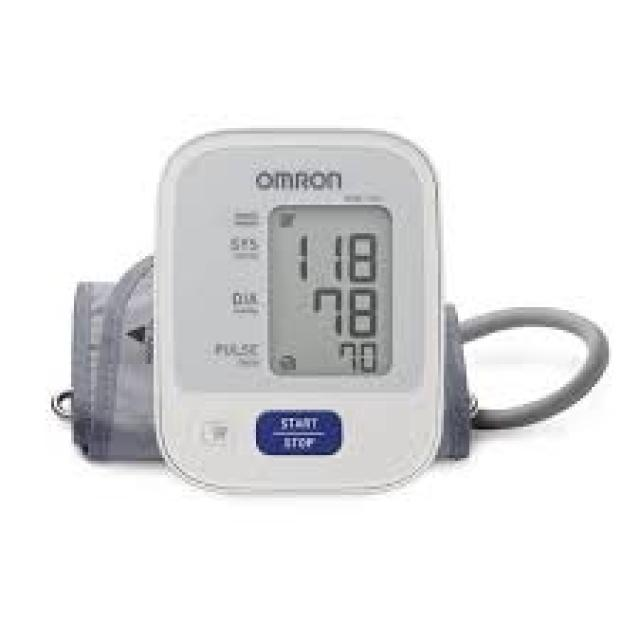dia: (304, 282, 382, 341)
pul: (332, 336, 386, 376)
ssd: (266, 204, 392, 378)
sys: (291, 227, 383, 282)
